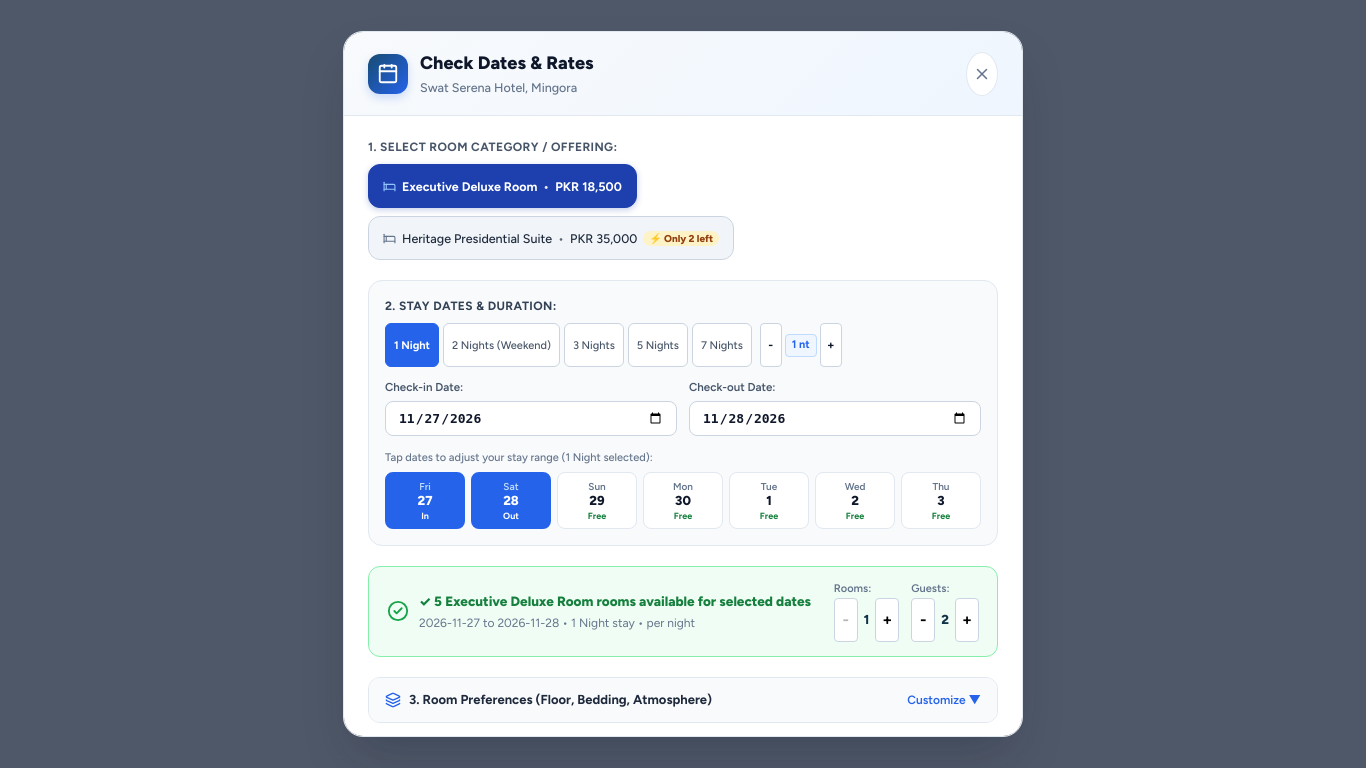
Test: Phase 3: Interactive Availability & Multi-Night Date Picker › dynamically calculates multi-night stay total price, taxes, and deposit
# Switch to 3 Nights preset
Click the button "3 Nights". click: (594, 346)
box: [564,324,624,368]
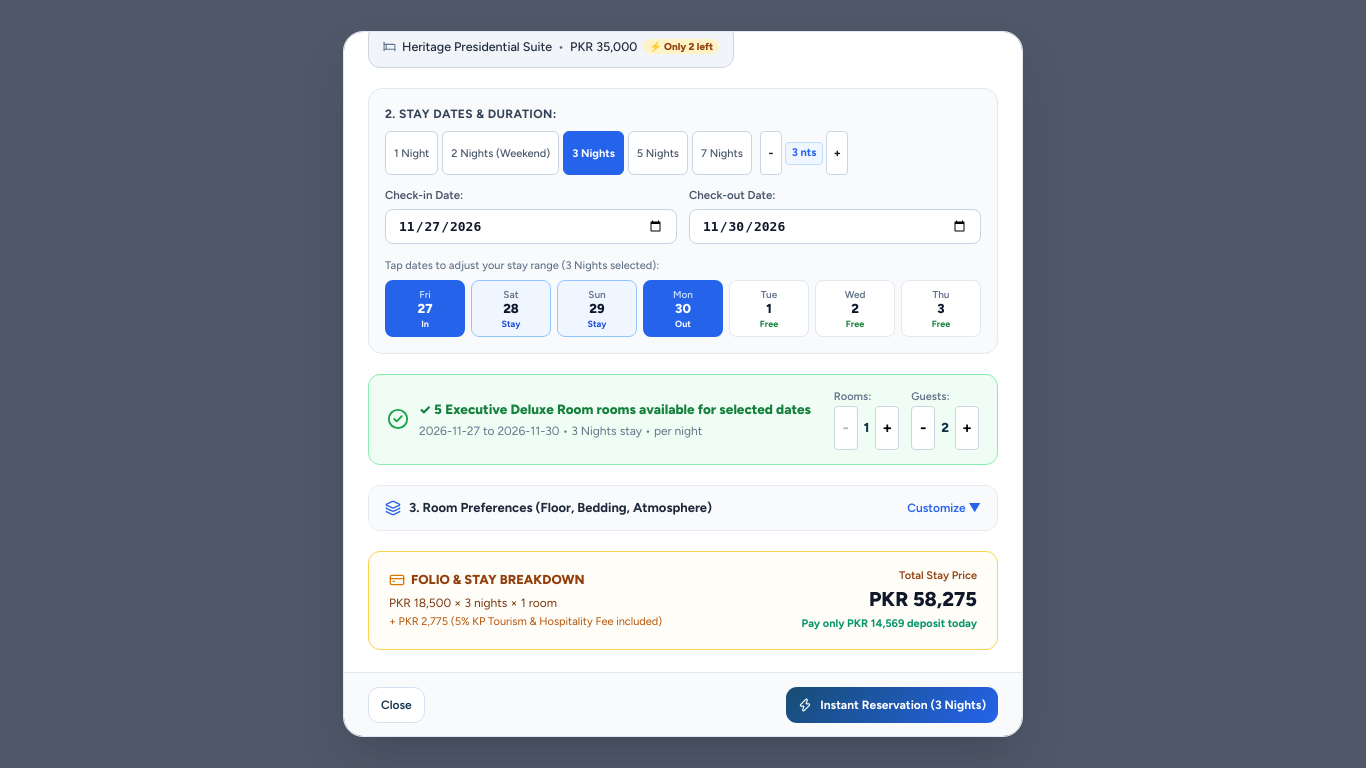
Expected: the text "PKR 18,500 × 3 nights × 1 room" is shown, [389,596,557,610]
Expected: the text "PKR 58,275" is shown, [869,587,977,611]
Expected: the text "Pay only PKR 14,569 deposit today" is shown, [802,616,977,633]
